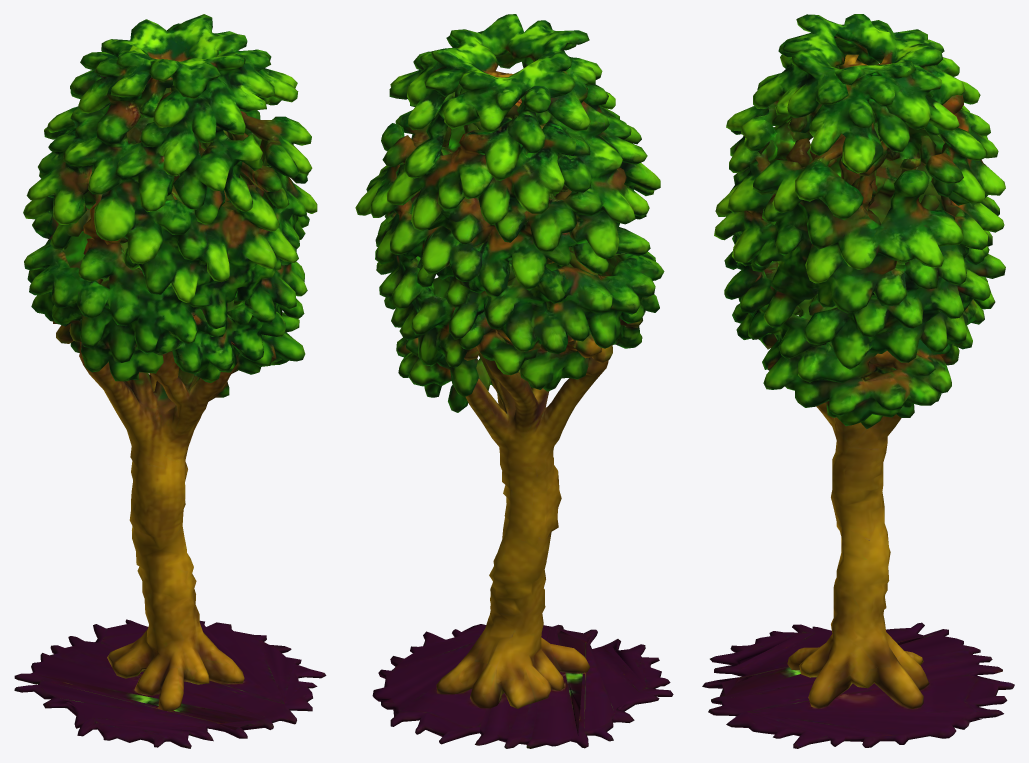
Rendered from emerald_canopy_2.glb.
The picture shows the model from 3 angles, left to right: view 1: azimuth 30°, elevation 25°; view 2: azimuth 150°, elevation 25°; view 3: azimuth 270°, elevation 25°; orthographic projection.
Bounding box in the file's own units: 0.8141 × 1.9 × 0.818.
1 material, 1 textured.
